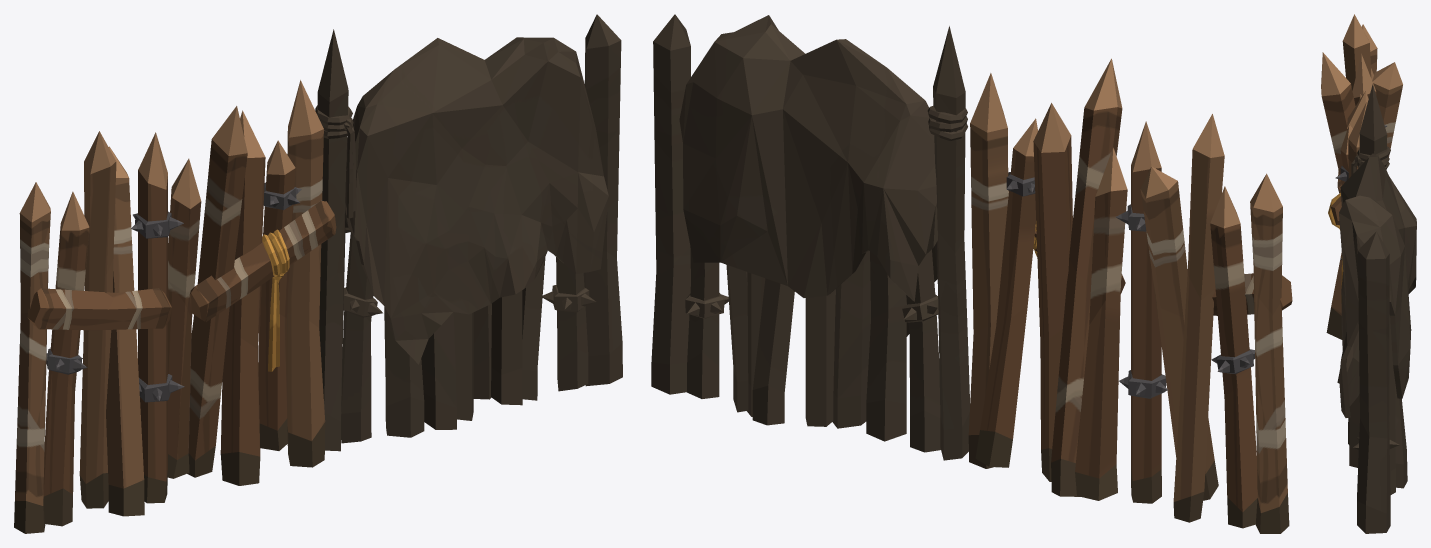
The model's file is bog_wall_e.gltf.
The picture shows the model from 3 angles, left to right: view 1: azimuth 30°, elevation 25°; view 2: azimuth 150°, elevation 25°; view 3: azimuth 270°, elevation 25°; orthographic projection. The views are drawn at different scales.
Visible parts, largest first — view 1: bog_wall_e; view 2: bog_wall_e; view 3: bog_wall_e.
Boxes of the visible parts, bbox=[...] form: bog_wall_e: bbox=[14, 14, 622, 533]; bog_wall_e: bbox=[651, 14, 1292, 533]; bog_wall_e: bbox=[1321, 14, 1416, 533].
Bounding box in the file's own units: 9.97 × 6.61 × 1.68.
2 materials, 2 textured.
